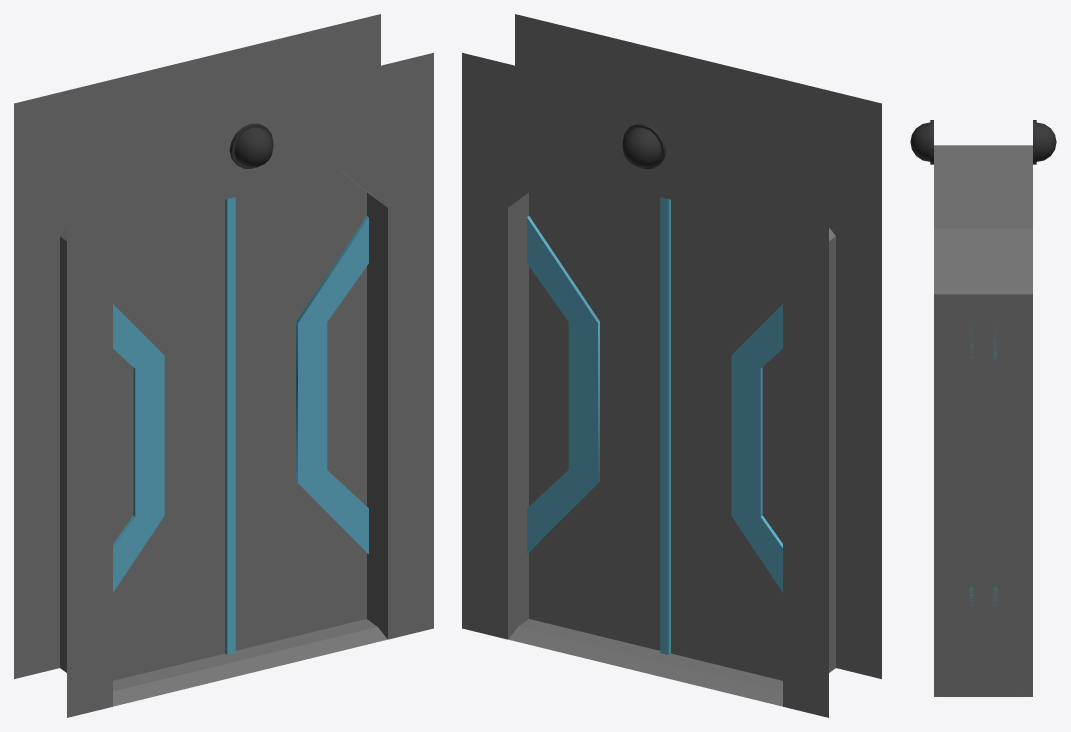
File: SlidingDoor.fbx
The picture shows the model from 3 angles, left to right: view 1: azimuth 30°, elevation 25°; view 2: azimuth 150°, elevation 25°; view 3: azimuth 270°, elevation 25°; orthographic projection. The views are drawn at different scales.
Parts seen in each view (by area): view 1: DoorFrame, RightDoor, LeftDoor, FloorThing, BackProjector; view 2: DoorFrame, RightDoor, LeftDoor, FloorThing, FrontProjector; view 3: DoorFrame, RightDoor, BackProjector, FrontProjector.
Boxes of the visible parts, <box> form: DoorFrame: <box>14,14,433,717</box>; RightDoor: <box>231,171,368,653</box>; LeftDoor: <box>113,198,231,680</box>; FloorThing: <box>64,619,387,706</box>; BackProjector: <box>229,123,273,168</box>; DoorFrame: <box>462,14,881,717</box>; RightDoor: <box>527,171,664,653</box>; LeftDoor: <box>664,198,782,680</box>; FloorThing: <box>508,619,831,706</box>; FrontProjector: <box>622,123,666,168</box>; DoorFrame: <box>934,145,1032,696</box>; RightDoor: <box>969,187,997,696</box>; BackProjector: <box>910,120,933,164</box>; FrontProjector: <box>1033,120,1056,164</box>.
Size of the model in its own units: 200 by 300 by 74.
